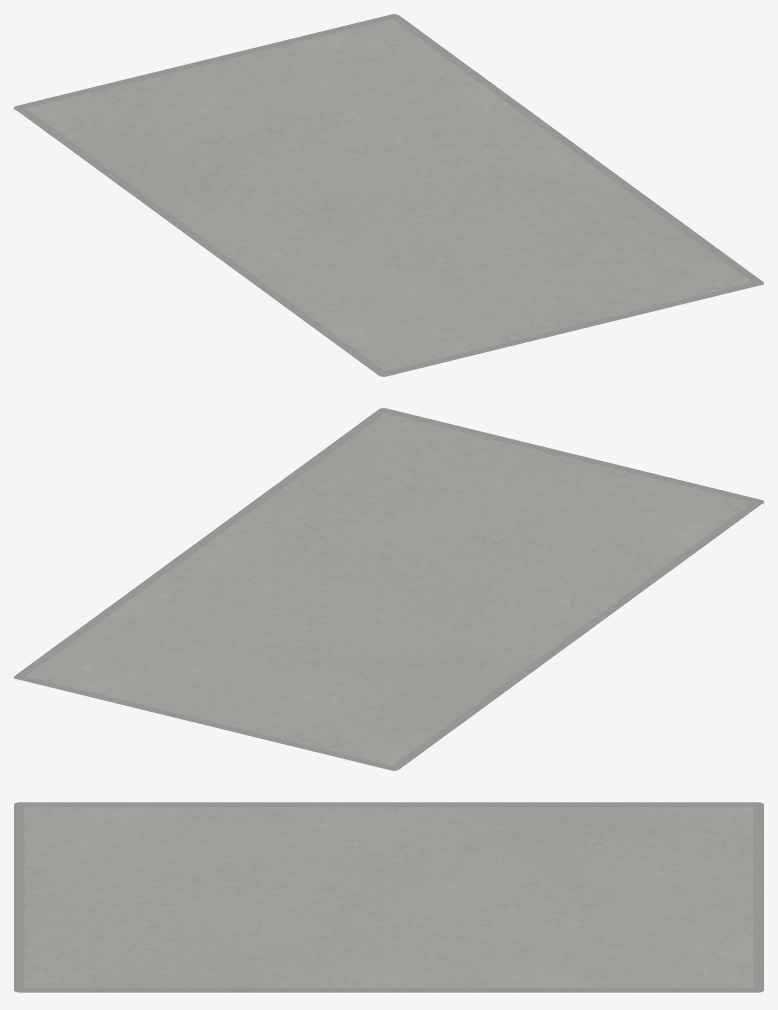
File: gray_widehall.glb
3 renders of one model, top to bottom at view 1: azimuth 30°, elevation 25°; view 2: azimuth 150°, elevation 25°; view 3: azimuth 270°, elevation 25°, orthographic.
Visible parts, largest first — view 1: reliv_gray_widehall; view 2: reliv_gray_widehall; view 3: reliv_gray_widehall.
Boxes of the visible parts, x1,y1,x2,y2 form: reliv_gray_widehall: (14, 14, 763, 376); reliv_gray_widehall: (14, 408, 763, 770); reliv_gray_widehall: (14, 802, 763, 992).
Bounding box in the file's own units: 1.2 × 0.009 × 2.
2 materials, 1 textured.
